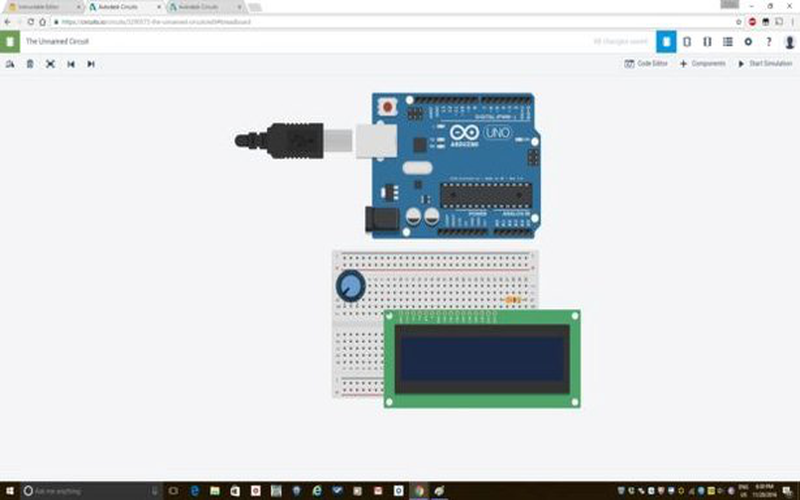LCD: (377, 305, 582, 410)
